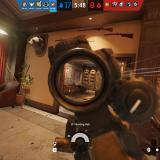Character: (77, 79, 81, 85)
Head: (77, 80, 79, 82)
